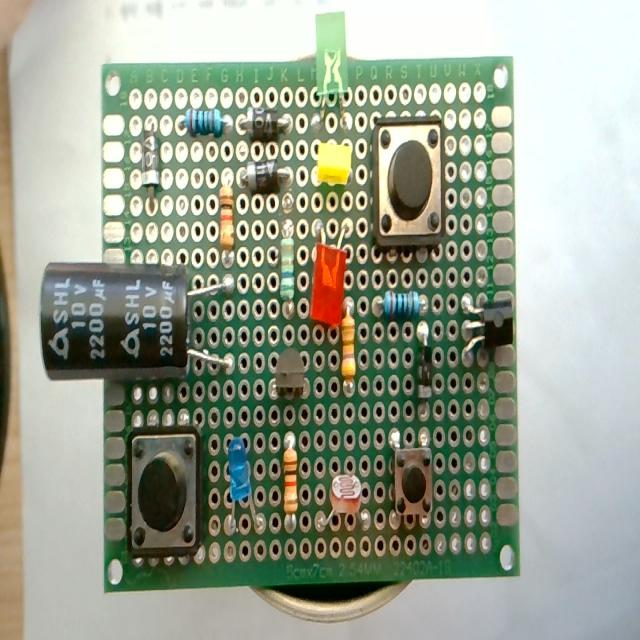Electrolytic capacitor: (38, 263, 232, 382)
cds: (316, 466, 374, 540)
diode: (239, 107, 289, 141), (240, 160, 287, 194), (141, 129, 160, 204), (416, 319, 432, 404)
led: (310, 218, 352, 328), (312, 14, 350, 124), (225, 436, 266, 536), (316, 140, 352, 186)
resistor: (180, 108, 231, 139), (382, 288, 426, 318), (280, 219, 296, 300), (341, 303, 355, 381), (284, 439, 298, 515), (219, 183, 234, 250)
switch: (126, 428, 202, 556), (372, 119, 444, 248), (390, 426, 434, 522)
transistor: (462, 297, 516, 353), (269, 349, 310, 399)
